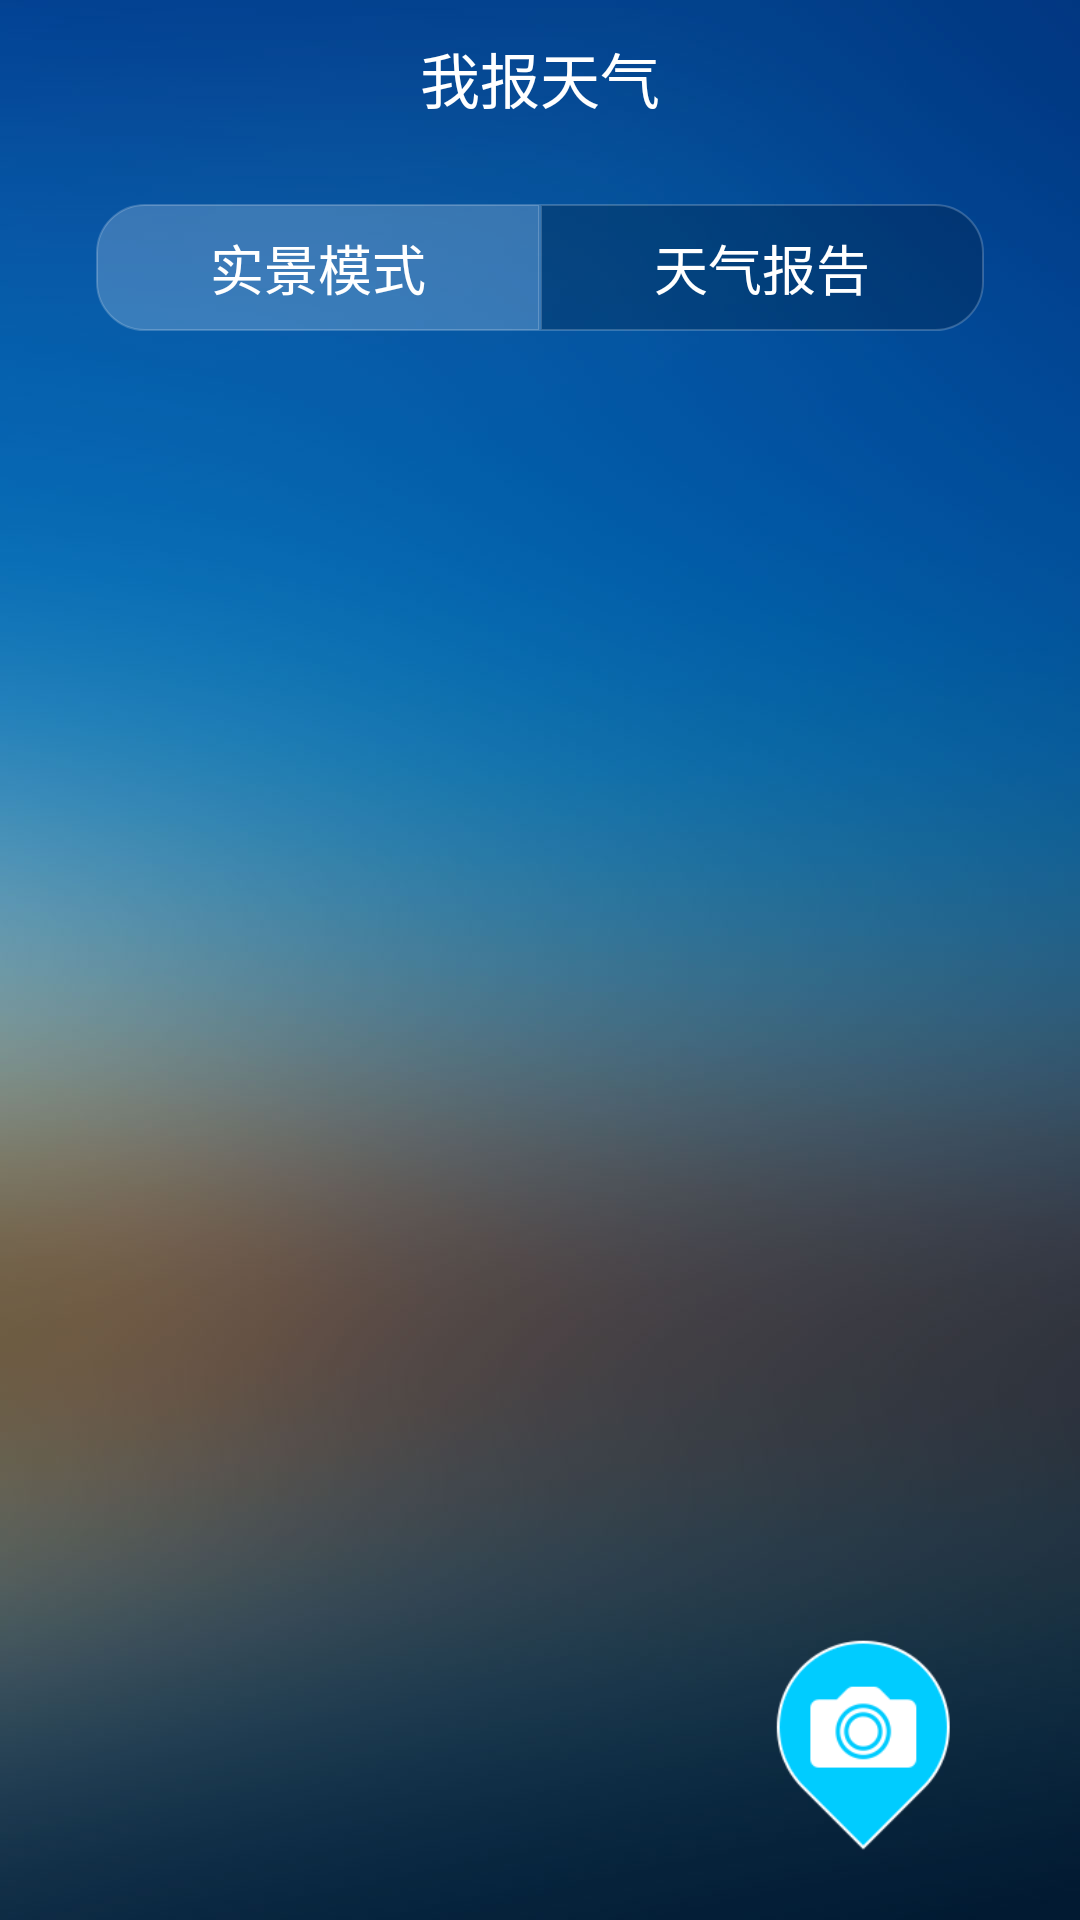

Where icons sit on this 1080w x 1920h app screen, as (x1=x1, y1=y1, x2=x2, y2=y2):
camera: (x1=776, y1=1640, x2=950, y2=1850)
